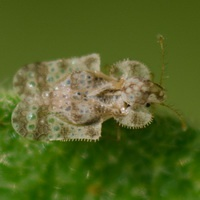insect: (12, 54, 164, 140)
